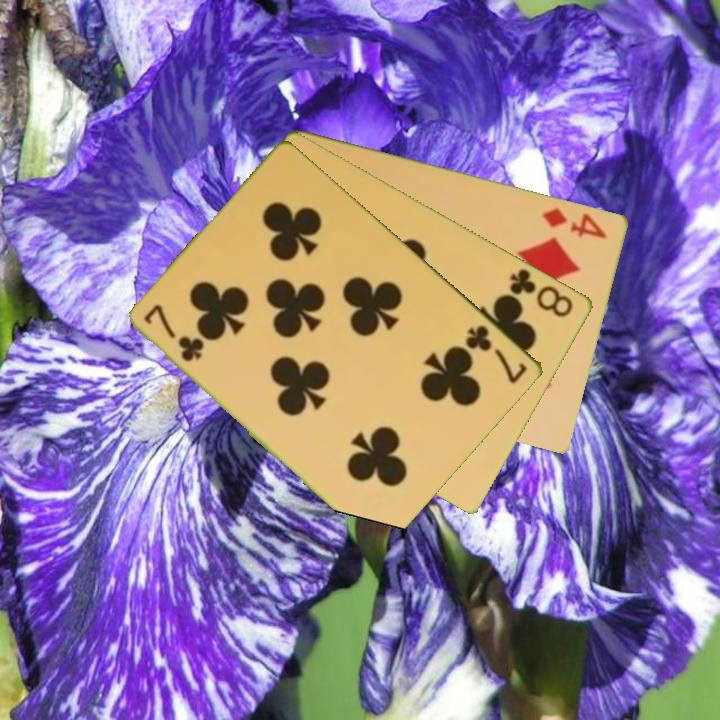4d: (539, 204, 611, 241)
7c: (462, 321, 531, 387), (140, 302, 206, 365)
8c: (506, 265, 577, 321)
